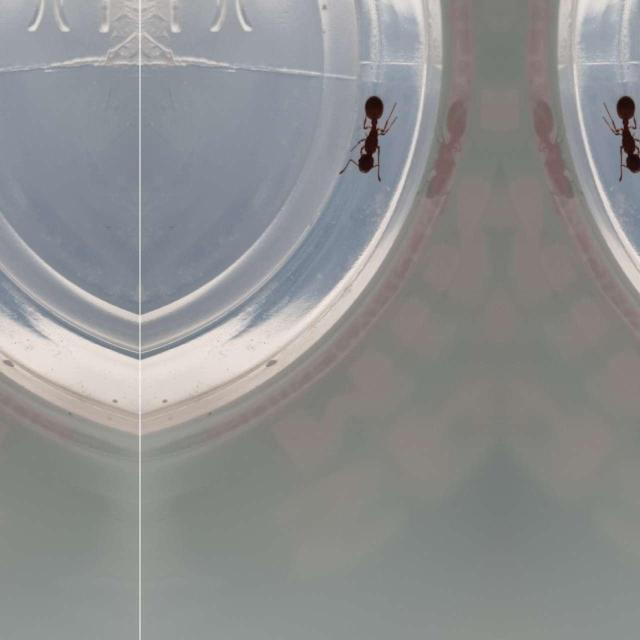Myrmica: (345, 77, 399, 179), (600, 77, 640, 179)
